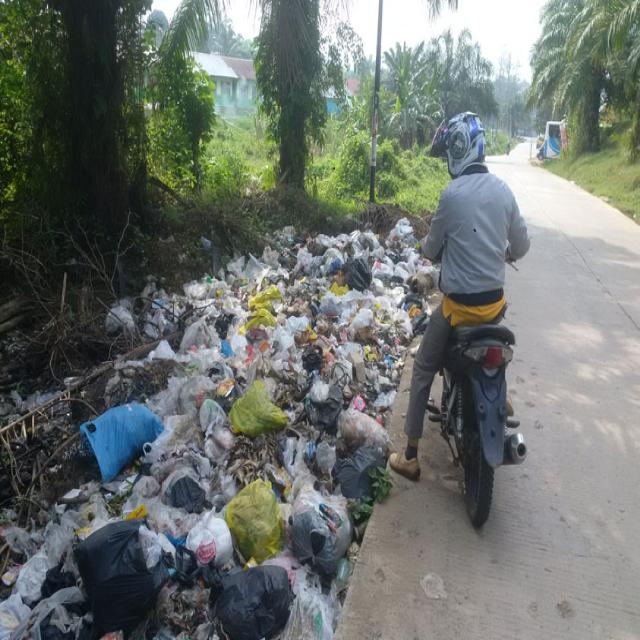trash: (4, 237, 362, 640)
